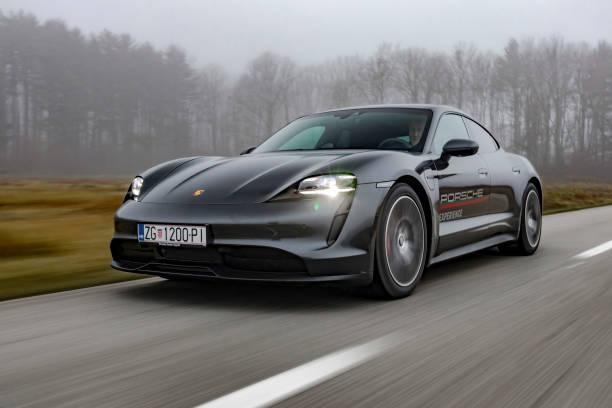porsche: (189, 186, 208, 198)
